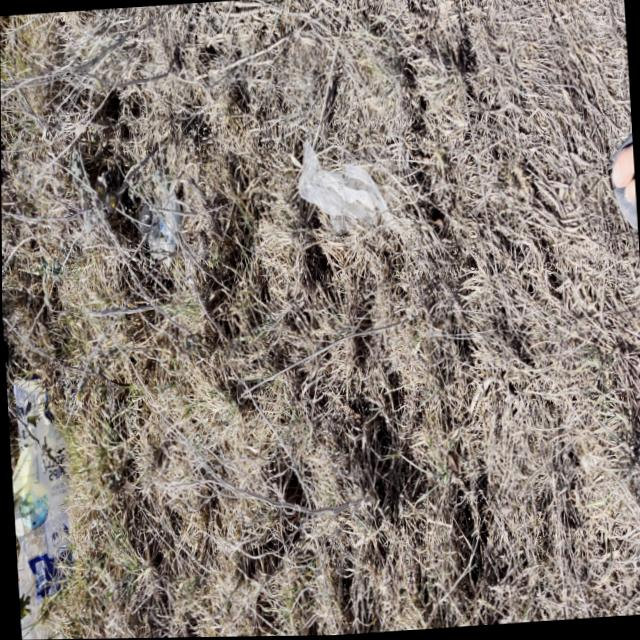Plastic: (4, 368, 97, 640), (292, 129, 404, 260)
